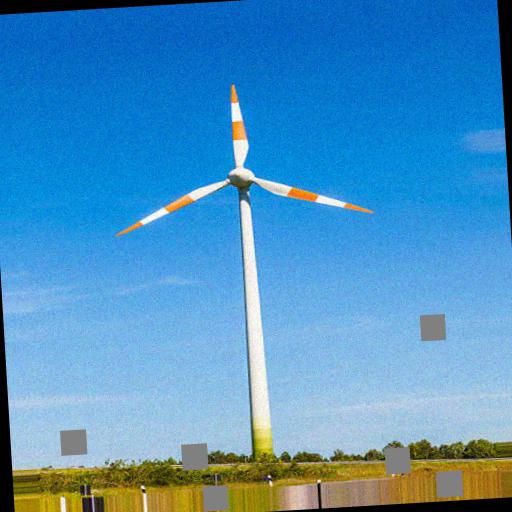wind turbine: (114, 83, 376, 465)
